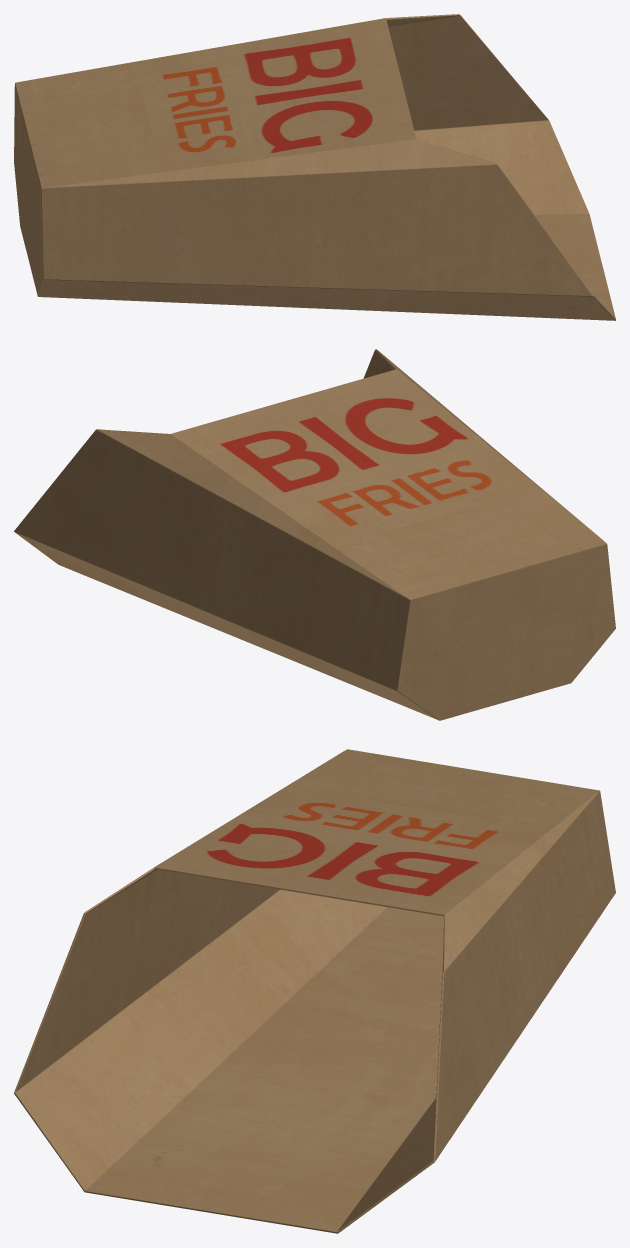
File: CartonFries.fbx
3 views of the same model, one above another, from view 1: azimuth 30°, elevation 25°; view 2: azimuth 150°, elevation 25°; view 3: azimuth 270°, elevation 25° (orthographic). The views are drawn at different scales.
Parts seen in each view (by area): view 1: Fries_Box_01; view 2: Fries_Box_01; view 3: Fries_Box_01.
Boxes of the visible parts, x1,y1,x2,y2 form: Fries_Box_01: (14, 14, 615, 320); Fries_Box_01: (14, 349, 615, 720); Fries_Box_01: (14, 749, 615, 1233).
Size of the model in its own units: 163 by 58.4 by 135.
Materials: 1 (1 with a texture image).
